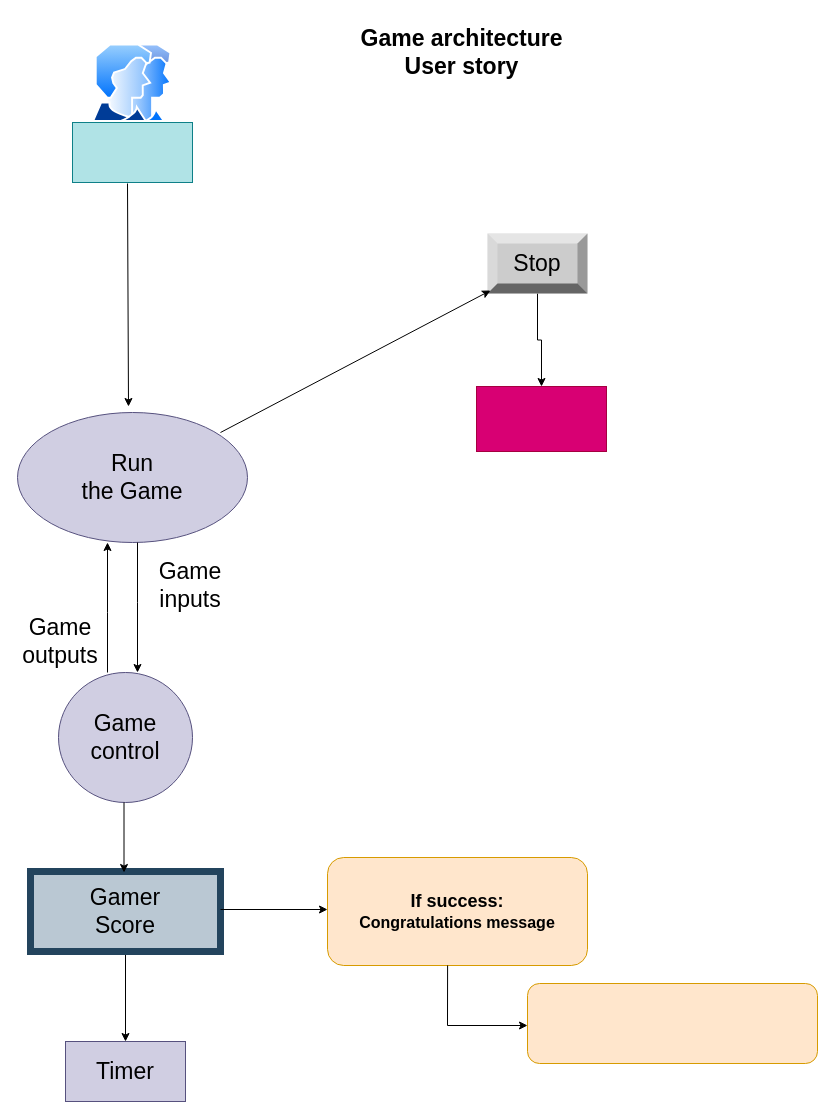
Image size: 835x1119. Some labels were removed from this diagram. Here are the shapes that lost their labels. From the top down, the box of each, then its label:
(72, 122, 192, 182): Gamer
(476, 386, 606, 452): End
(526, 982, 818, 1064): Failue: Motivation message
